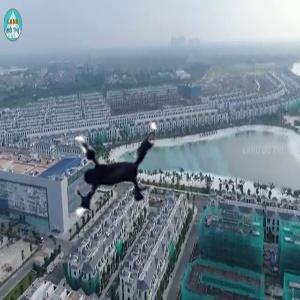drone: (36, 92, 181, 237)
